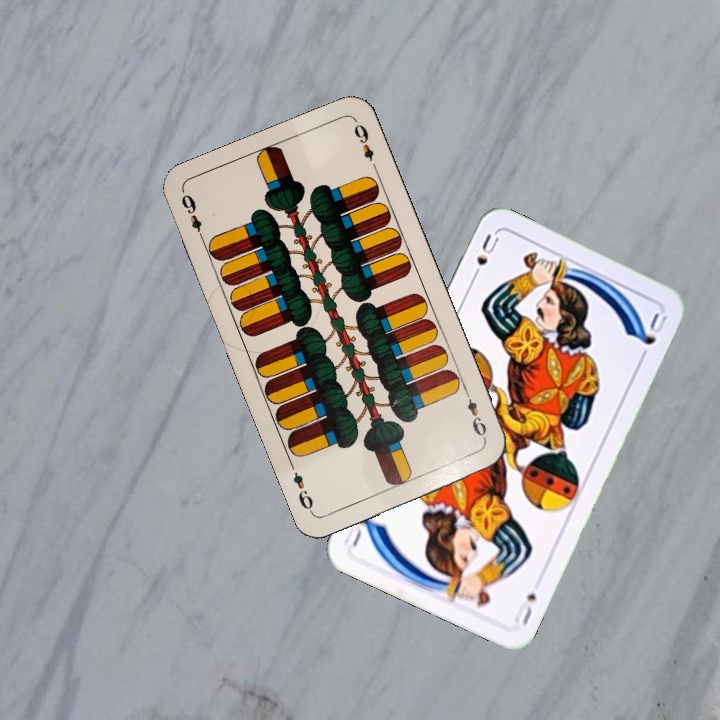E9: (177, 190, 208, 245), (461, 387, 490, 444)
SU: (466, 230, 502, 285), (510, 589, 540, 628)
